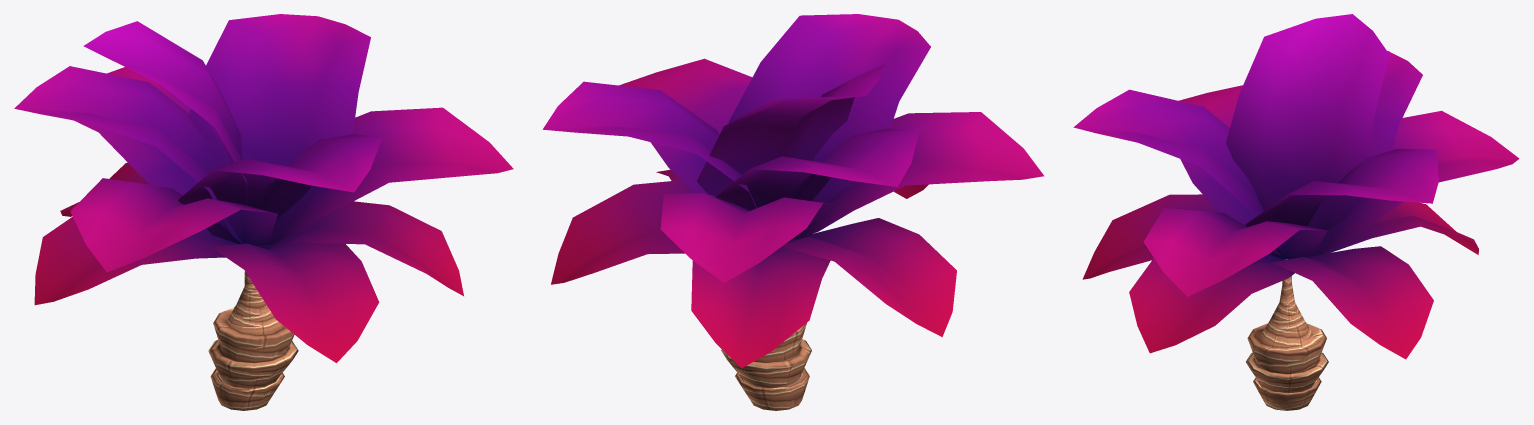
Rendered from Tree_Palmier_06.fbx.
The picture shows the model from 3 angles, left to right: view 1: azimuth 30°, elevation 25°; view 2: azimuth 150°, elevation 25°; view 3: azimuth 270°, elevation 25°; orthographic projection. The views are drawn at different scales.
Parts seen in each view (by area): view 1: Palmier_06; view 2: Palmier_06; view 3: Palmier_06.
Part boxes in pixels (x1,y1,x2,y2): Palmier_06: (14,14,513,410); Palmier_06: (542,14,1044,410); Palmier_06: (1073,14,1519,410).
Bounding box in the file's own units: 409 × 336 × 411.
